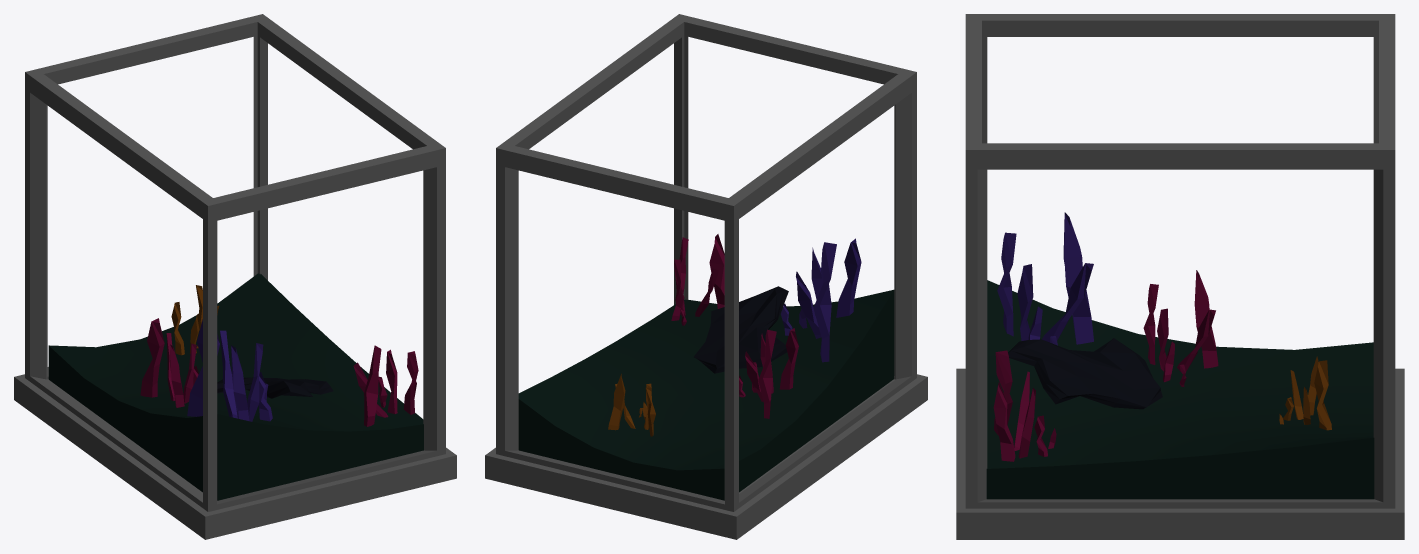
Rendered from Cage_5.fbx.
The picture shows the model from 3 angles, left to right: view 1: azimuth 30°, elevation 25°; view 2: azimuth 150°, elevation 25°; view 3: azimuth 270°, elevation 25°; orthographic projection. The views are drawn at different scales.
Visible parts, largest first — view 1: Cage_5; view 2: Cage_5; view 3: Cage_5.
Part boxes in pixels (x1,y1,x2,y2): Cage_5: (14, 14, 456, 539); Cage_5: (485, 14, 927, 539); Cage_5: (956, 14, 1404, 539).
Bounding box in the file's own units: 16.1 × 20.13 × 21.18.
